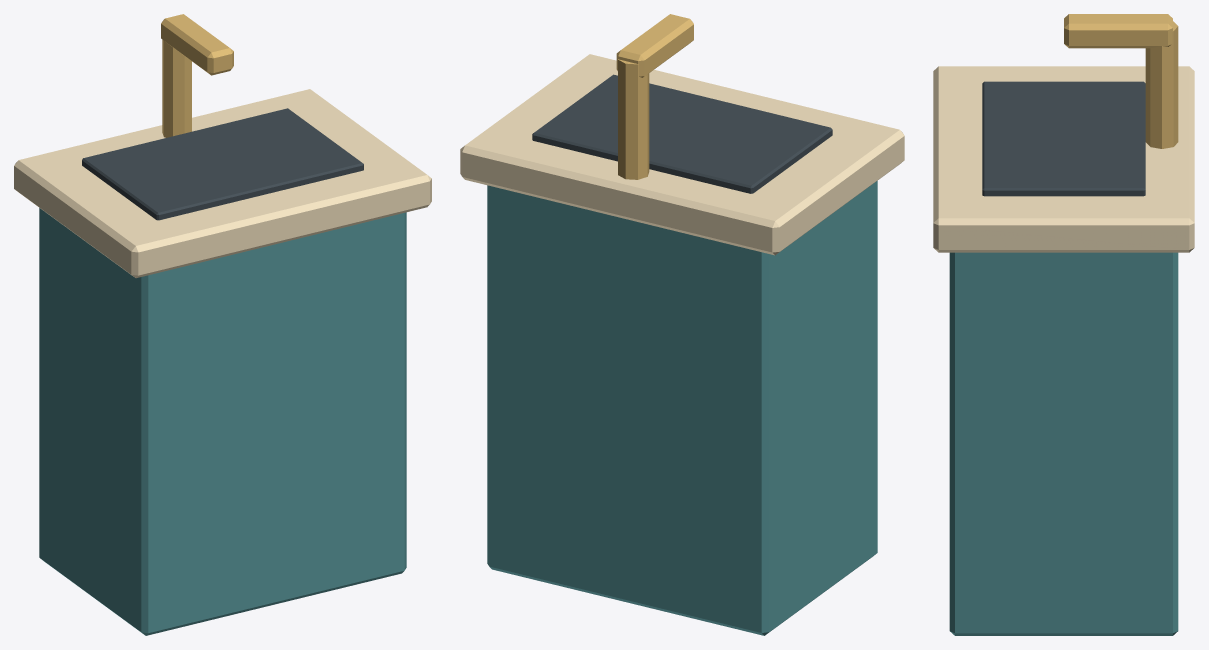
Rendered from SM_CH_Paper_Sink.fbx.
The picture shows the model from 3 angles, left to right: view 1: azimuth 30°, elevation 25°; view 2: azimuth 150°, elevation 25°; view 3: azimuth 270°, elevation 25°; orthographic projection. The views are drawn at different scales.
Parts seen in each view (by area): view 1: SM_CH_Paper_Sink; view 2: SM_CH_Paper_Sink; view 3: SM_CH_Paper_Sink.
Part boxes in pixels (x1,y1,x2,y2): SM_CH_Paper_Sink: (14,14,431,635); SM_CH_Paper_Sink: (460,14,904,635); SM_CH_Paper_Sink: (933,14,1194,635).
Bounding box in the file's own units: 6800 × 4800 × 11150.
